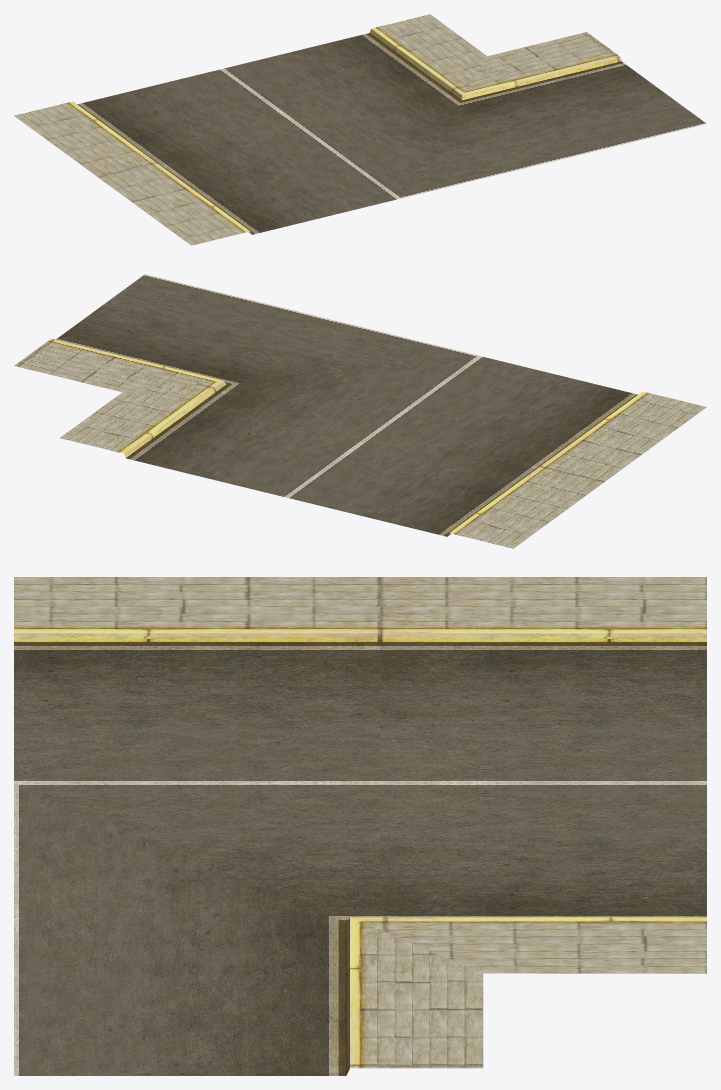
File: Road3_Half_T_A.fbx
3 views of the same model, one above another, from view 1: azimuth 30°, elevation 25°; view 2: azimuth 150°, elevation 25°; view 3: azimuth 270°, elevation 25° (orthographic). The views are drawn at different scales.
Parts seen in each view (by area): view 1: Road_Half_T_A; view 2: Road_Half_T_A; view 3: Road_Half_T_A.
Boxes of the visible parts, left/top/right/bottom form: Road_Half_T_A: left=14, top=14, right=706, bottom=245; Road_Half_T_A: left=14, top=274, right=706, bottom=548; Road_Half_T_A: left=14, top=577, right=706, bottom=1075.
Bounding box in the file's own units: 2793 × 20.38 × 1666.
